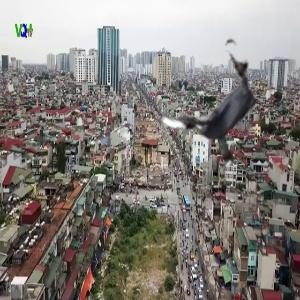drone: (148, 37, 291, 180)
